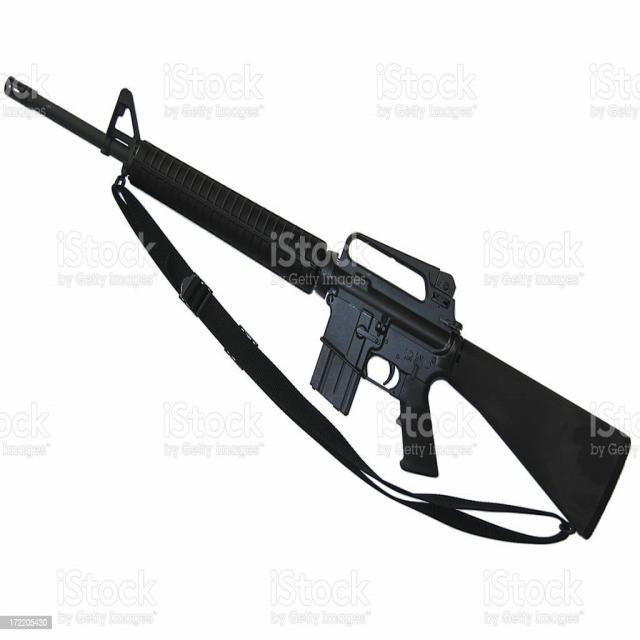m16: (10, 50, 628, 587)
